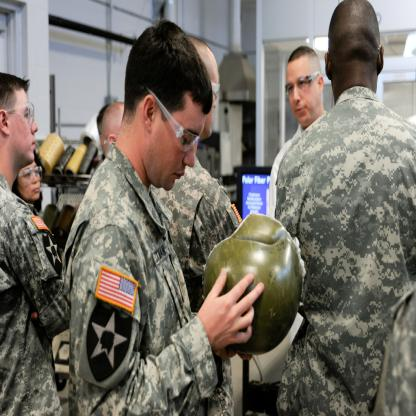Helmet: (215, 234, 298, 351)
